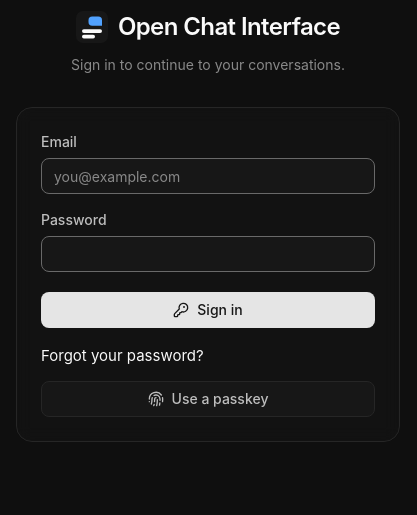
Test: Use a passkey › does not take an outage for a wrong passkey
Click the button "Use a passkey": (208, 399) [41,381,375,417]
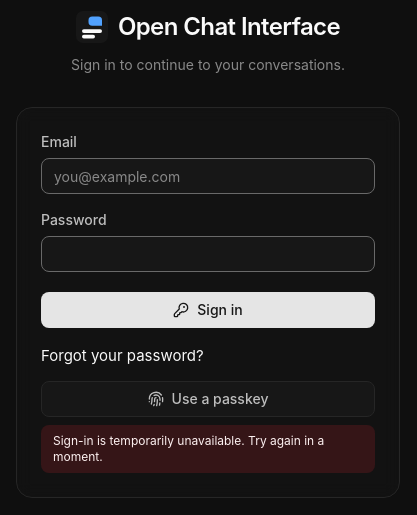
Check: the message "Sign-in is temporarily unavailable. Try again in a moment." is shown, box [41,425,375,473]
